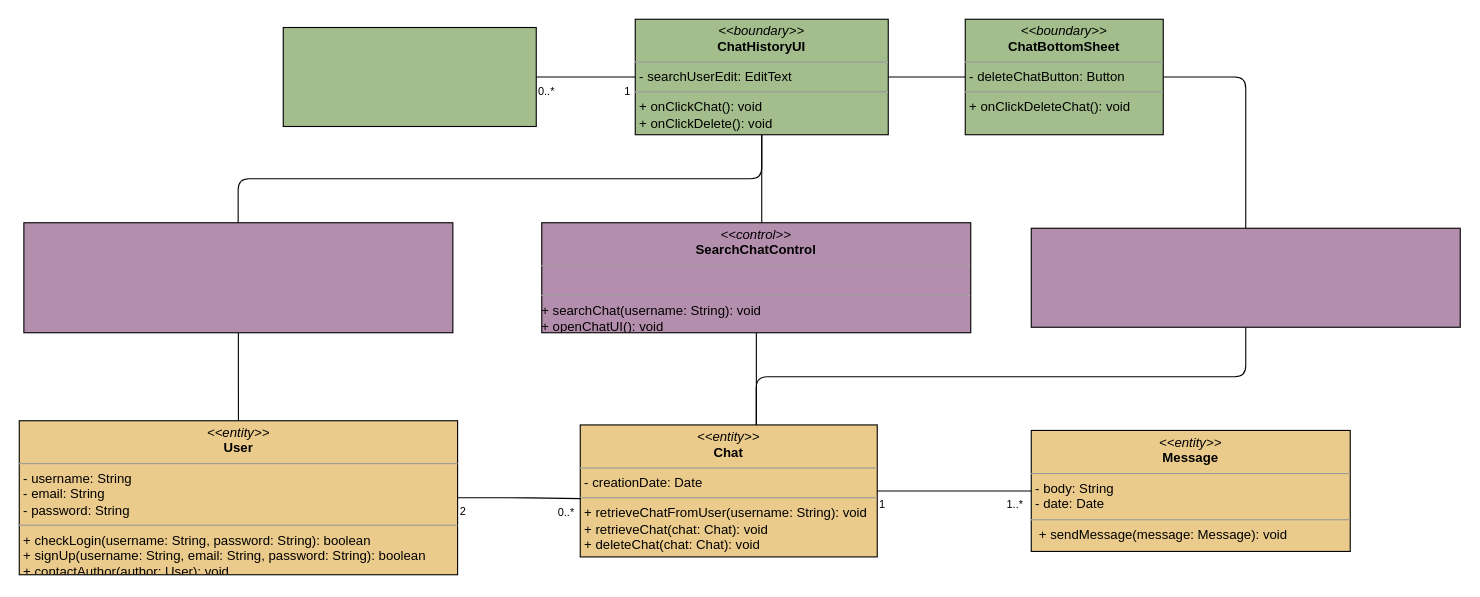
The diagram is 1480 pixels wide and 597 high, and some of its shapes have lost their labels. The shapes that lost their labels are listed below. From the top down, each one's box as (x1, y1, x2, y2) in pixels, then its label:
(282, 26, 536, 127): <<boundary>> ChatItem - username: String - photo: ImageView
(23, 222, 453, 333): <<control>> ChatHistoryControl +retrieveChatList():void
(1030, 227, 1460, 327): <<control>> DeleteChatController + deleteChat(chat: Chat): void
